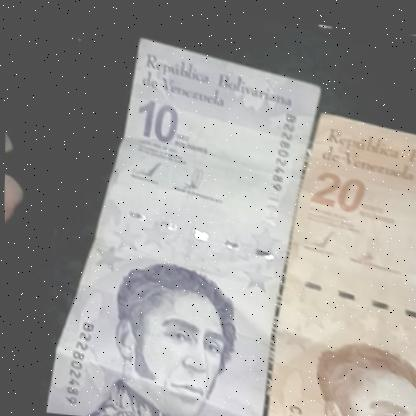ten-front-vef: (27, 26, 324, 416)
twenty-front-vef: (258, 103, 416, 416)
